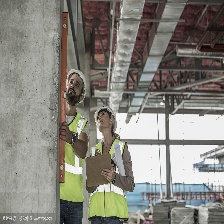person: (88, 104, 132, 224), (57, 65, 90, 224)
vest: (93, 137, 127, 220), (65, 112, 86, 202)
